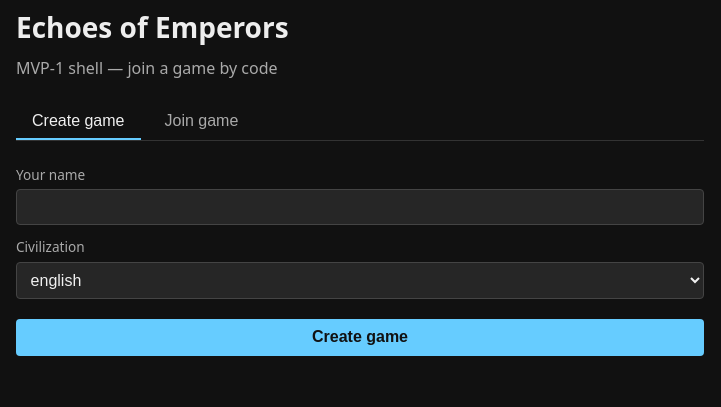
<Home /> › rejects empty name on create
The width and height of the screenshot is (721, 407).
Click the button "Create game": x=360, y=337 [16,319,704,356]
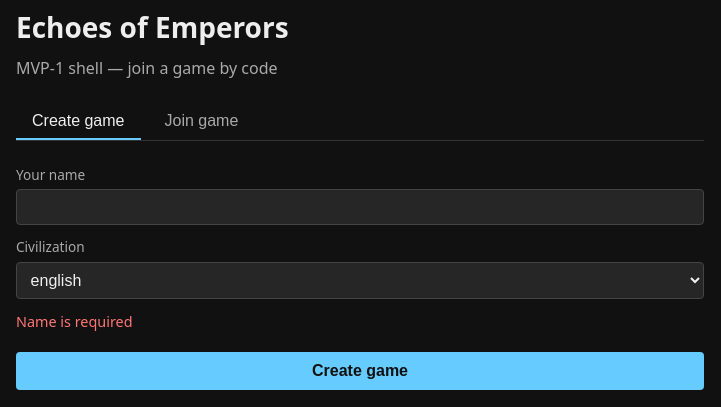
Now the message reads "Name is required", box [16,312,132,331]
